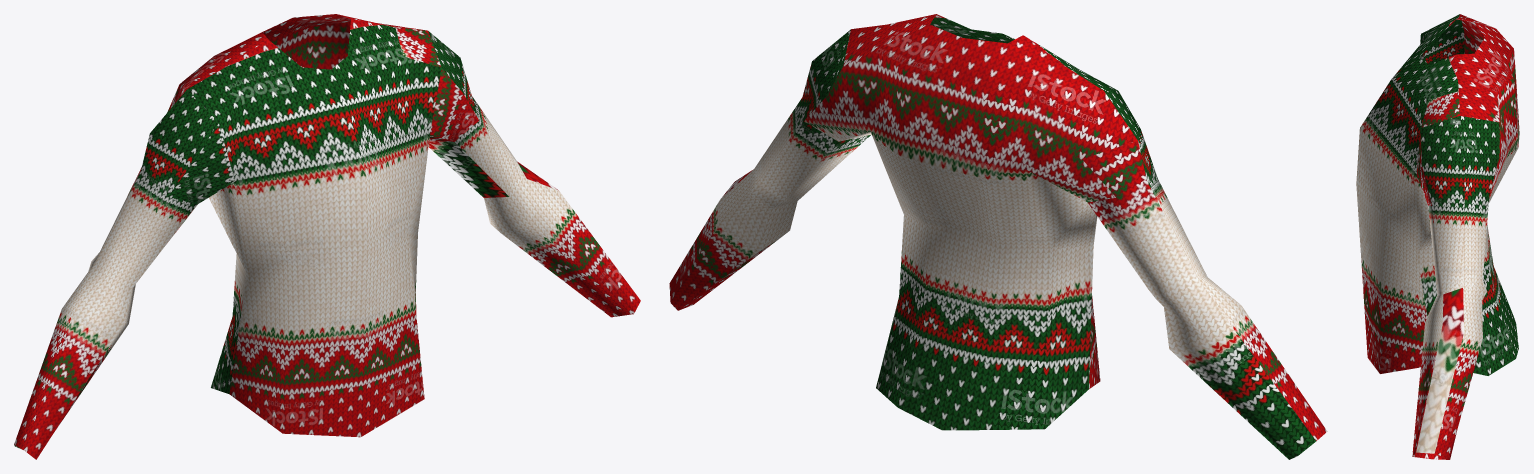
Rendered from sweater3.fbx.
3 views of the same model, side by side, from view 1: azimuth 30°, elevation 25°; view 2: azimuth 150°, elevation 25°; view 3: azimuth 270°, elevation 25° (orthographic). The views are drawn at different scales.
Visible parts, largest first — view 1: Cube; view 2: Cube; view 3: Cube.
Boxes of the visible parts, x1,y1,x2,y2 form: Cube: (14,14,640,459); Cube: (669,14,1327,459); Cube: (1356,14,1519,459).
Size of the model in its own units: 243 by 139 by 64.35.
Materials: 1 (1 with a texture image).
